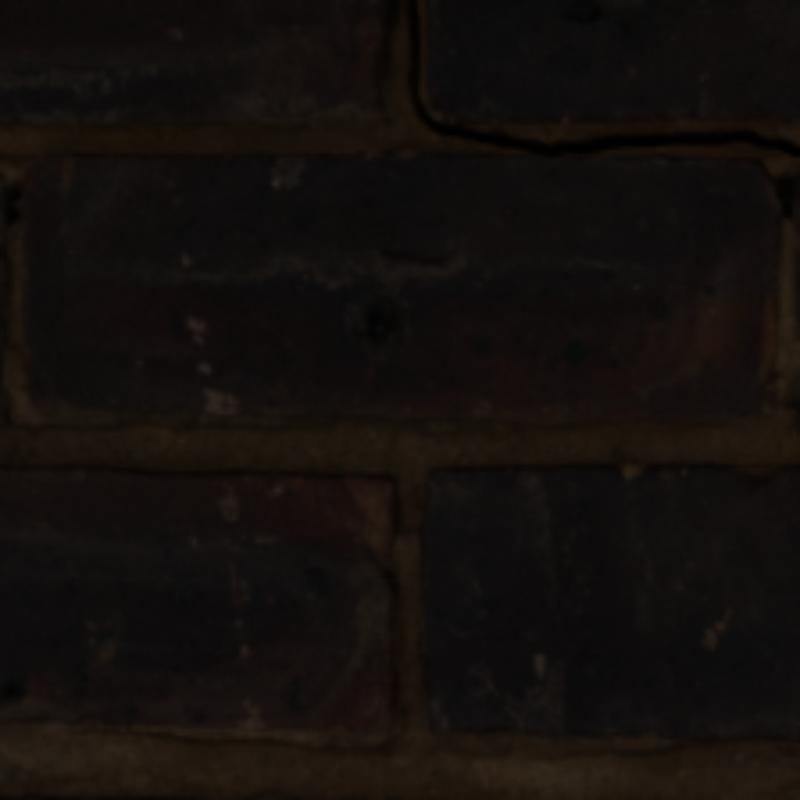pothole: (407, 0, 796, 154)
